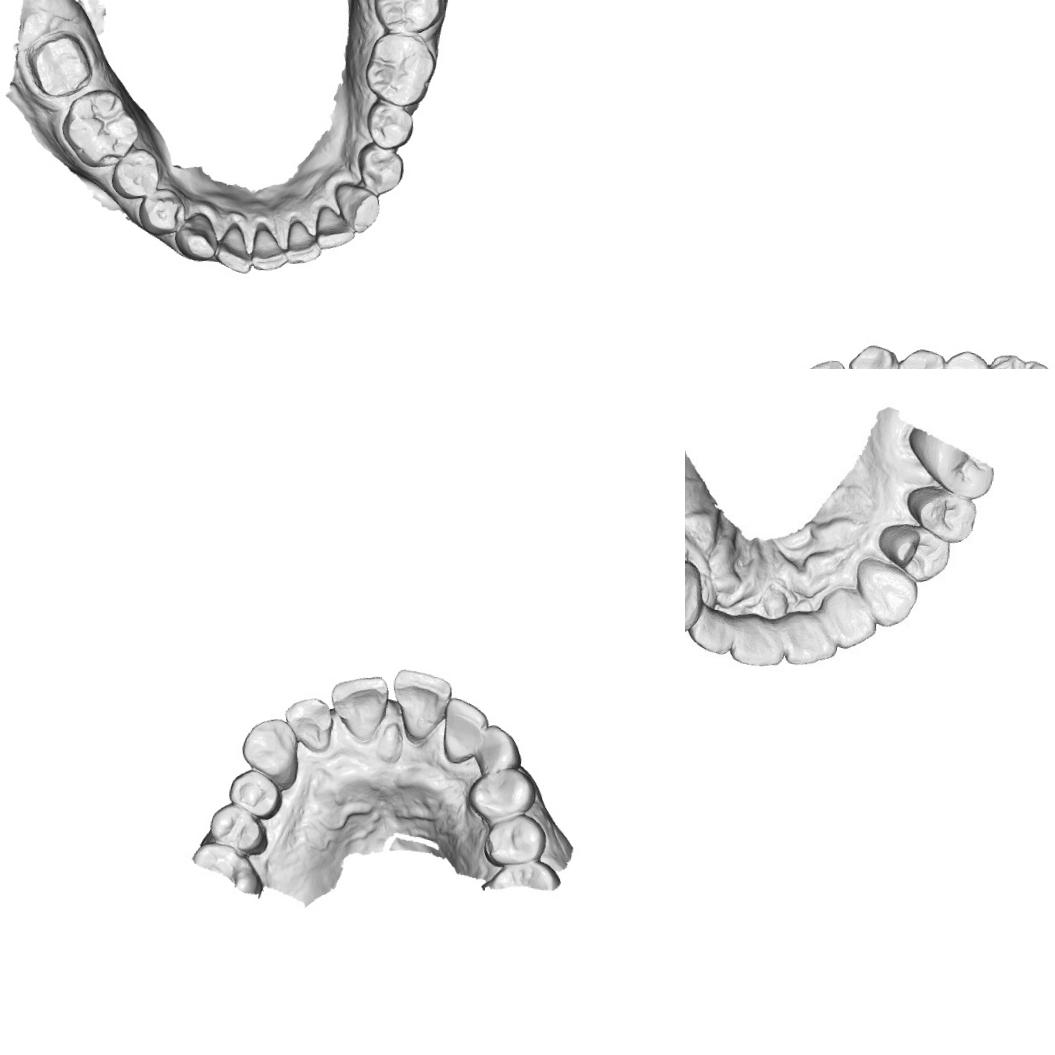canine: (236, 714, 302, 790), (851, 559, 921, 630), (330, 178, 382, 236), (170, 209, 220, 264), (475, 722, 524, 776), (685, 552, 708, 639), (843, 339, 900, 369)
crown: (19, 24, 98, 106)
incisor: (386, 667, 454, 744), (327, 670, 390, 742), (439, 695, 491, 767), (782, 612, 844, 671), (824, 589, 879, 653), (685, 597, 740, 657), (281, 694, 335, 753), (732, 612, 790, 666), (212, 218, 256, 274), (310, 202, 356, 252), (282, 217, 324, 267), (248, 226, 290, 273), (801, 355, 852, 369)
molar: (56, 82, 144, 173), (360, 30, 439, 109), (367, 0, 447, 37), (982, 350, 1055, 369)
premolar: (464, 764, 538, 825), (480, 810, 550, 870), (883, 521, 952, 580), (911, 485, 979, 540), (206, 800, 271, 856), (225, 766, 285, 821), (108, 144, 164, 201), (134, 183, 188, 239), (352, 142, 406, 196), (361, 100, 417, 152), (891, 344, 947, 369), (939, 346, 993, 369)
